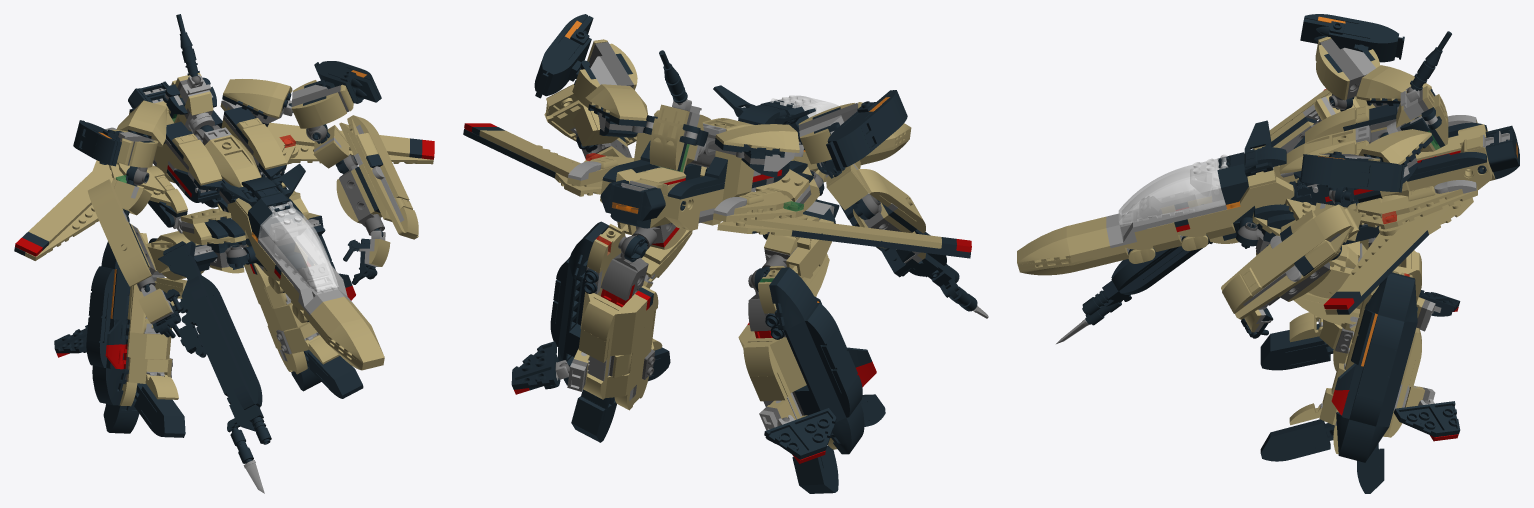
The model's file is yf-19-alpha-one-gerwalk-super.dae.
3 views of the same model, side by side, from view 1: azimuth 30°, elevation 25°; view 2: azimuth 150°, elevation 25°; view 3: azimuth 270°, elevation 25° (orthographic). The views are drawn at different scales.
Bounding box in the file's own units: 780 × 732 × 659.
